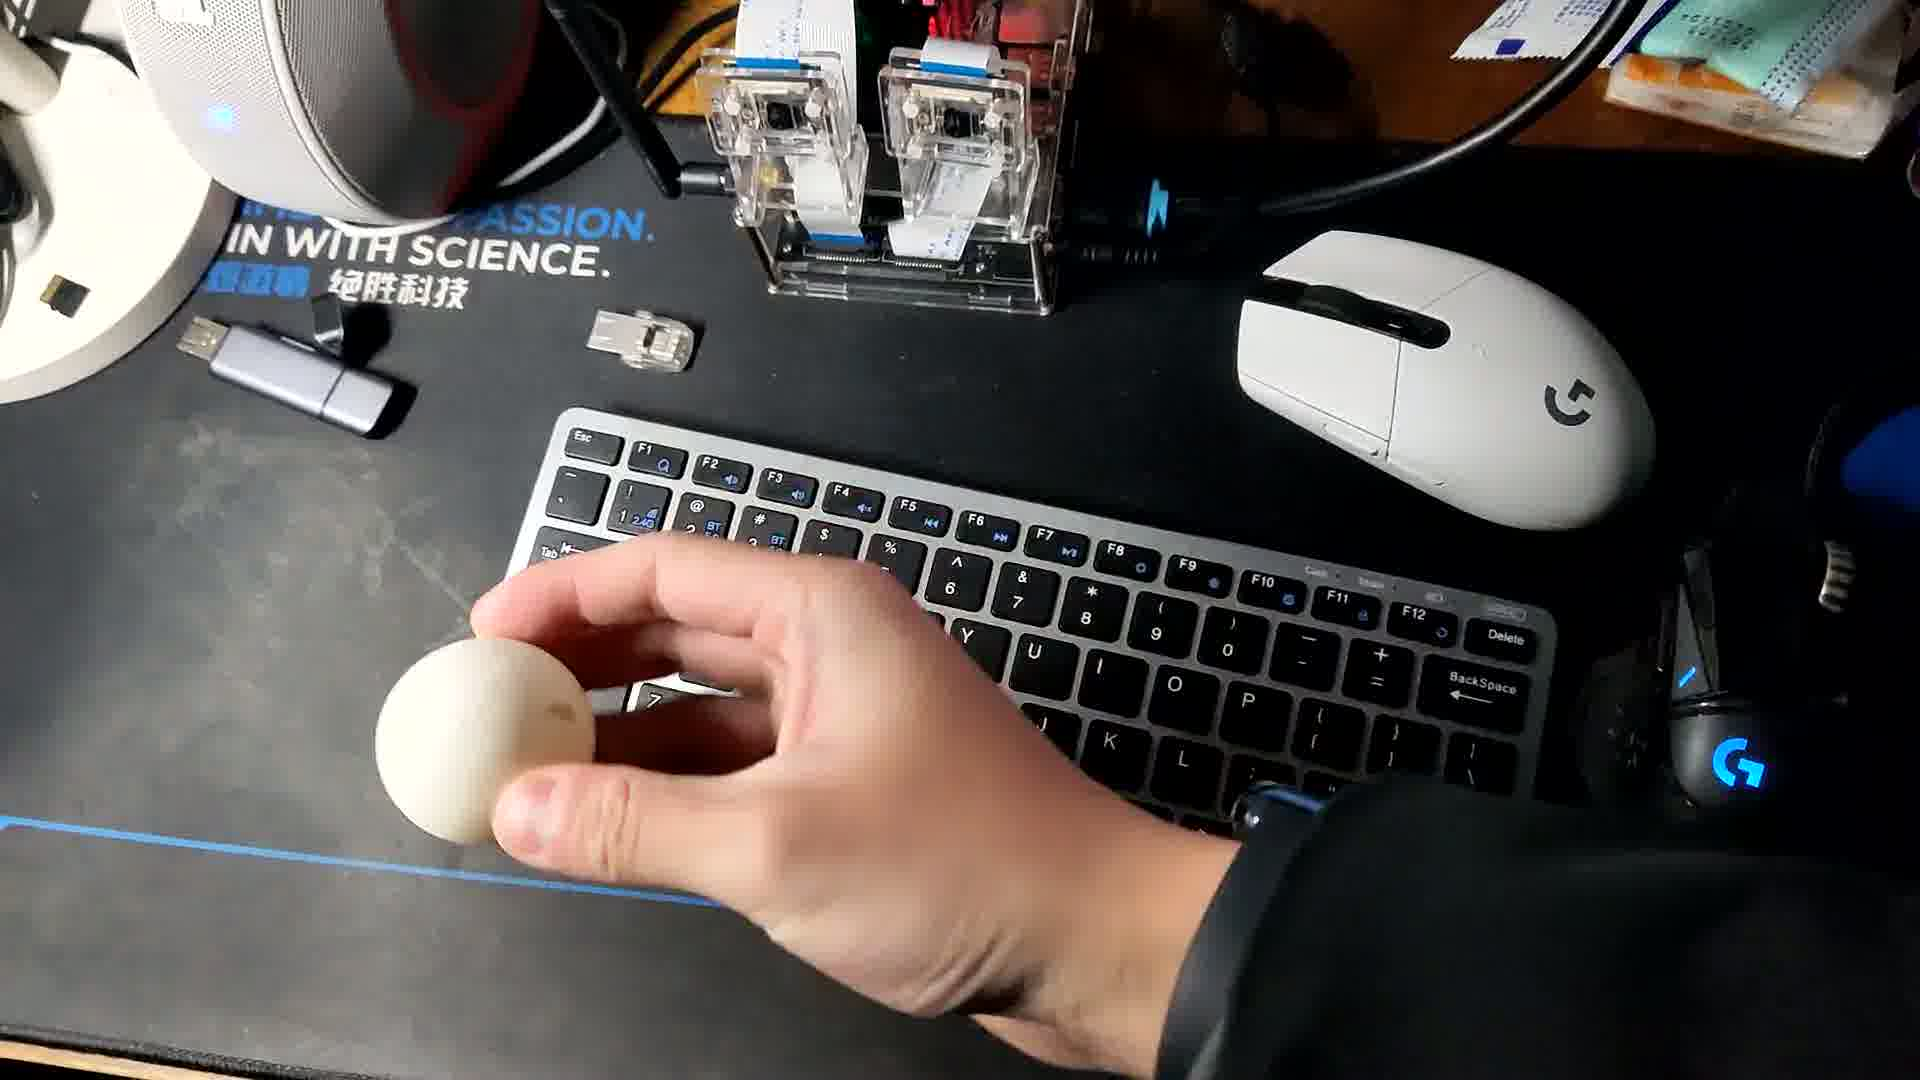Ball: (382, 638, 597, 858)
